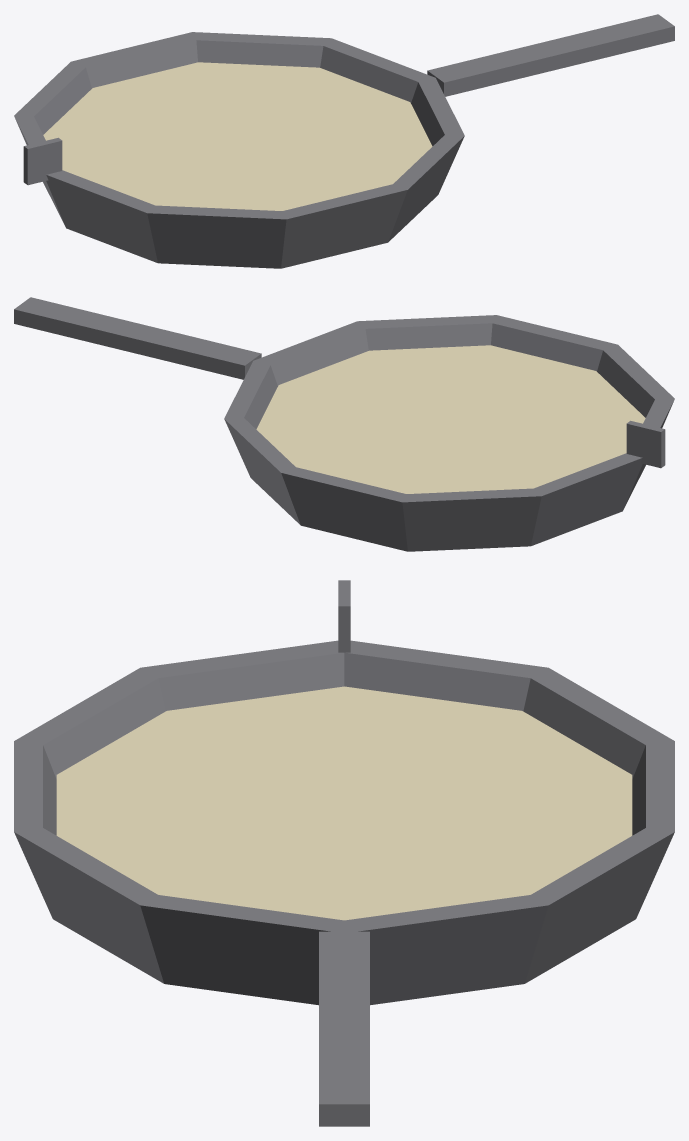
Rendered from prop-grease-pan.fbx.
The picture shows the model from 3 angles, top to bottom: view 1: azimuth 30°, elevation 25°; view 2: azimuth 150°, elevation 25°; view 3: azimuth 270°, elevation 25°; orthographic projection. The views are drawn at different scales.
Parts seen in each view (by area): view 1: prop-grease-pan; view 2: prop-grease-pan; view 3: prop-grease-pan.
Boxes of the visible parts, bbox=[...] form: prop-grease-pan: bbox=[14, 14, 674, 268]; prop-grease-pan: bbox=[14, 297, 674, 551]; prop-grease-pan: bbox=[14, 580, 674, 1126].
Size of the model in its own units: 55.5 by 7.5 by 32.34.
